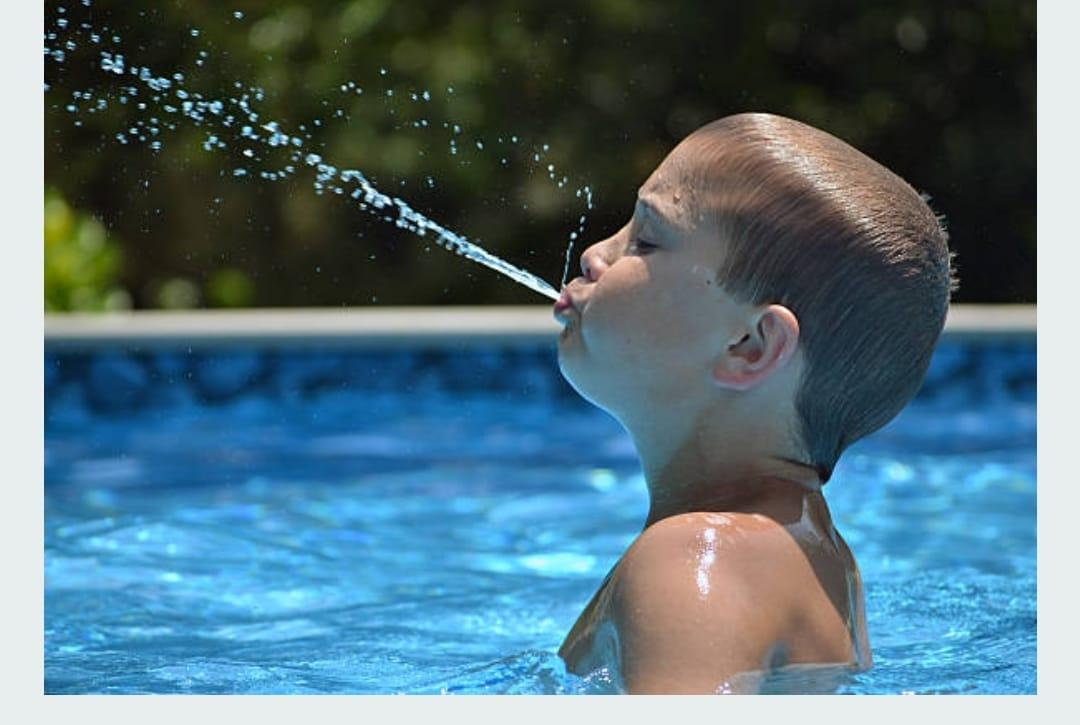Spitting: (301, 117, 980, 472)
